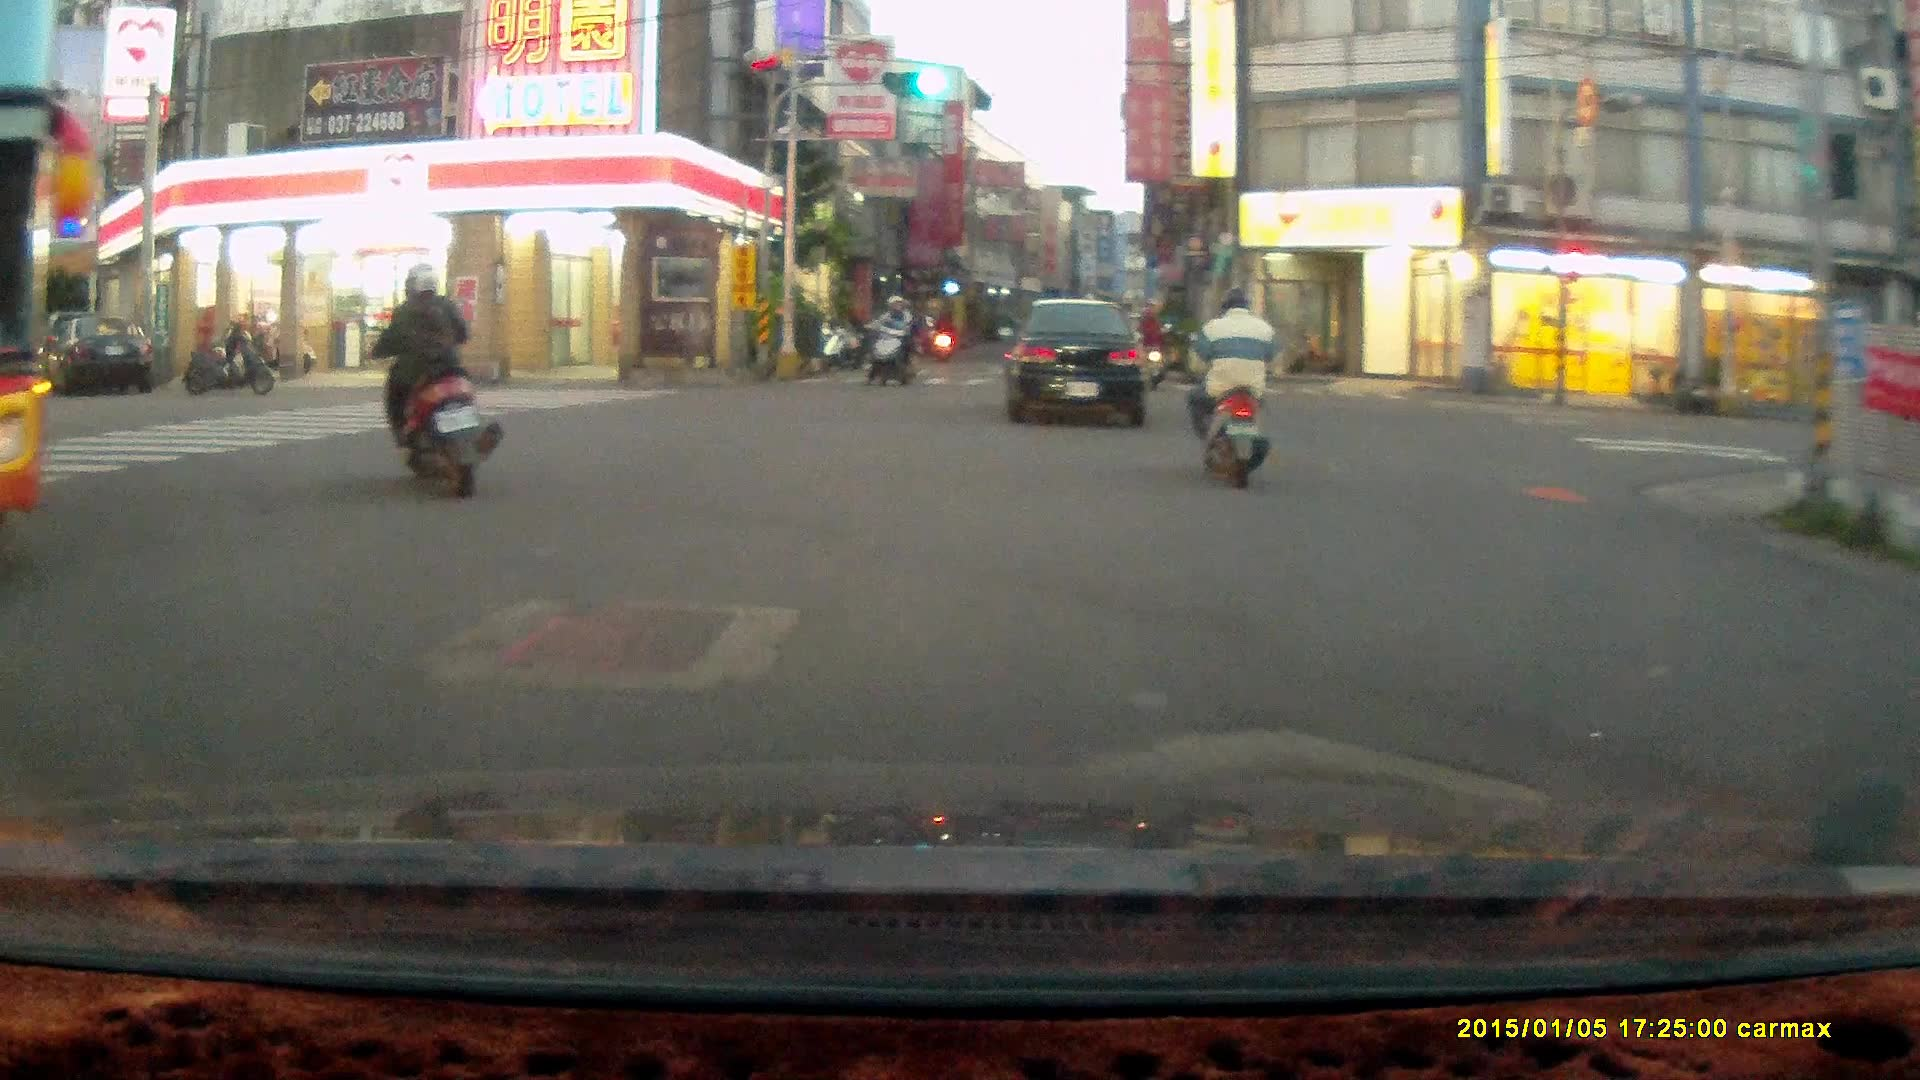rider: (357, 262, 503, 500), (1186, 283, 1276, 488), (860, 290, 919, 390), (1131, 296, 1168, 380)
vehicle: (1006, 295, 1152, 428), (63, 311, 153, 394)
